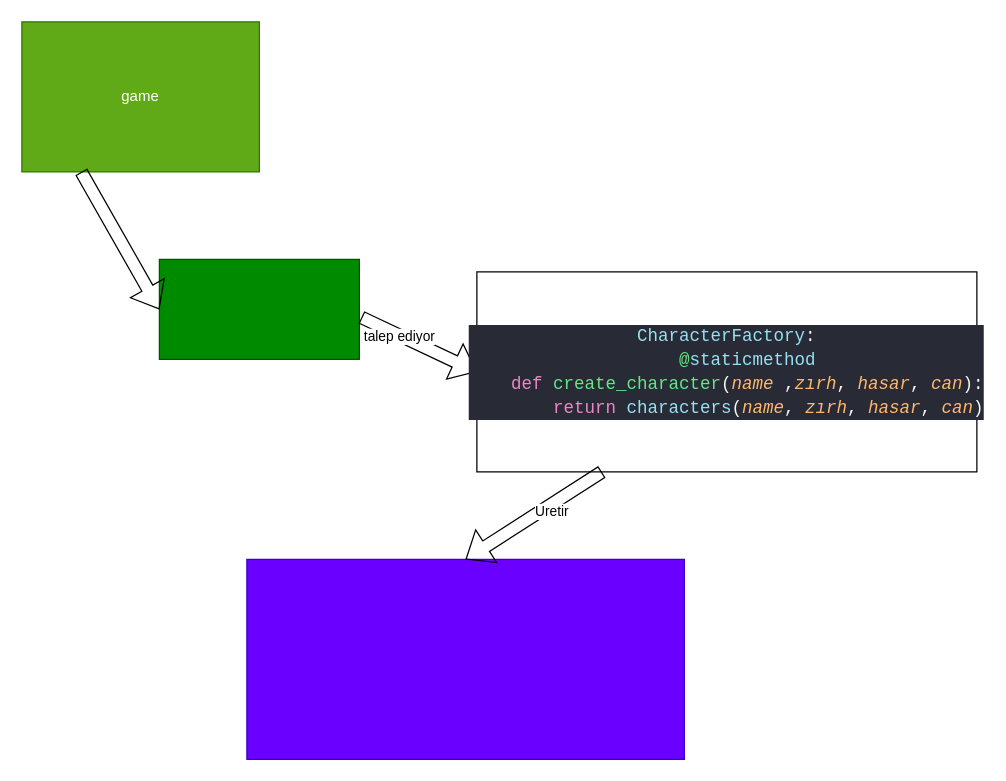
Image size: 1006x781. Some labels were removed from this diagram. The centre of each missing label's shape, as x and y in pixels:
characters: pixel 465 658
gamemodeEditor: pixel 258 308
